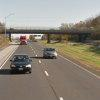Bridge: (4, 20, 95, 42)
